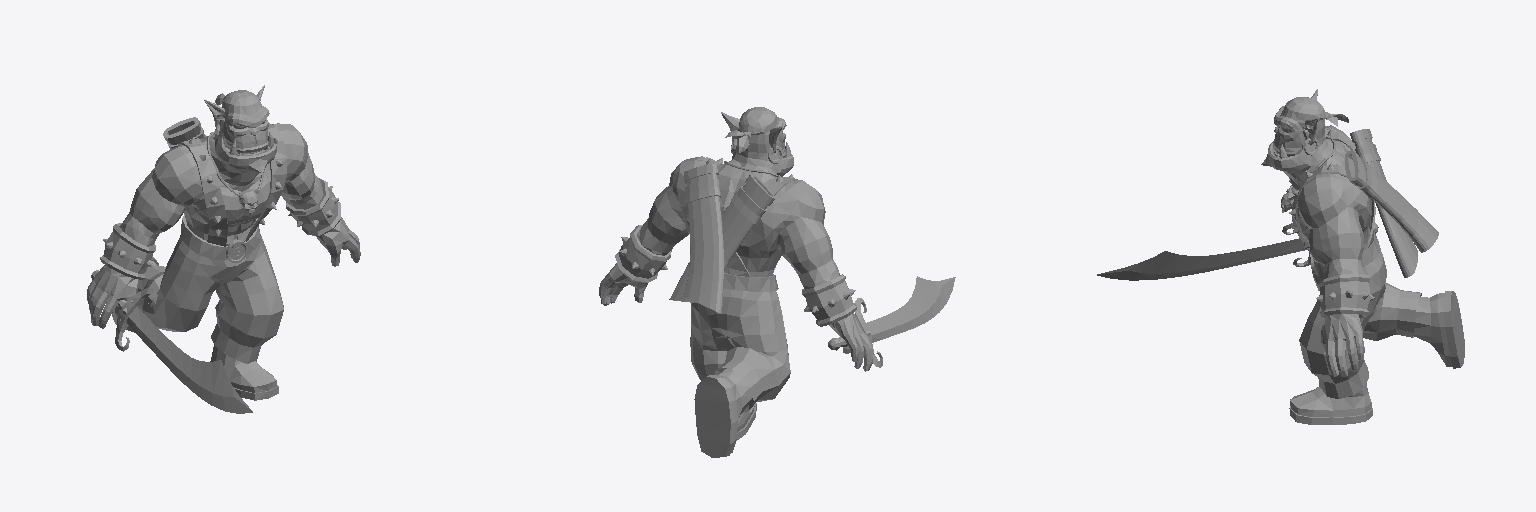
File: sinbad_000019.obj
The picture shows the model from 3 angles: view 1: azimuth 30°, elevation 25°; view 2: azimuth 150°, elevation 25°; view 3: azimuth 270°, elevation 25°; orthographic projection.
Parts seen in each view (by area): view 1: Sinbad, Sword; view 2: Sinbad, Sword; view 3: Sinbad, Sword.
Boxes of the visible parts, box(x1,y1,x2,y2) form: Sinbad: box(87, 85, 360, 400); Sword: box(91, 270, 252, 413); Sinbad: box(599, 107, 873, 457); Sword: box(828, 276, 955, 367); Sinbad: box(1261, 89, 1464, 424); Sword: box(1097, 223, 1378, 280).
Bounding box in the file's own units: 7.87 × 8.67 × 9.39.